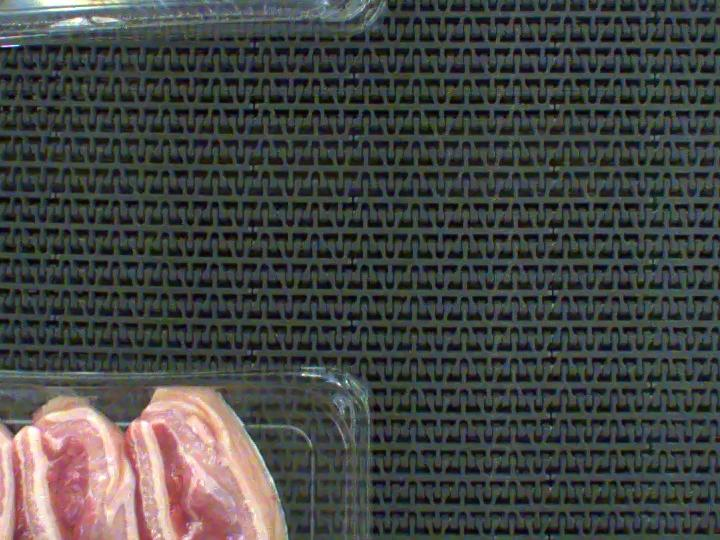packaging-error: (0, 348, 268, 428)
